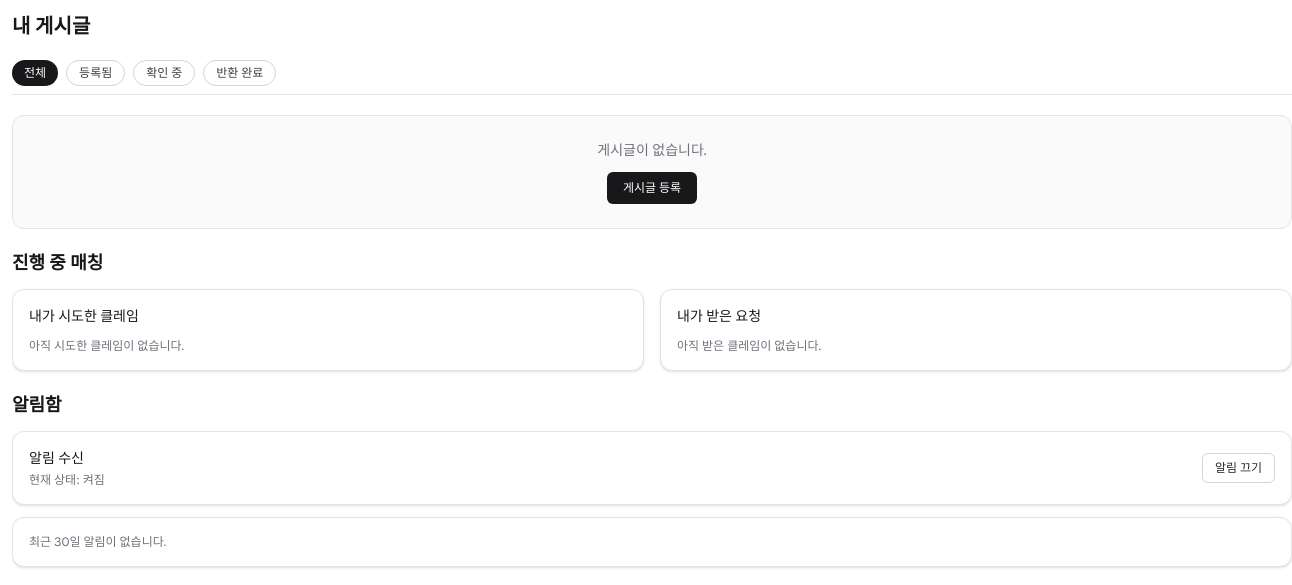
it: MyPage › toggles notification settings
Expected: the text "현재 상태: 켜짐" is shown, left=29, top=472, right=105, bottom=488
Step 1. Click the button "알림 끄기" → (1238, 468), box left=1202, top=453, right=1275, bottom=483
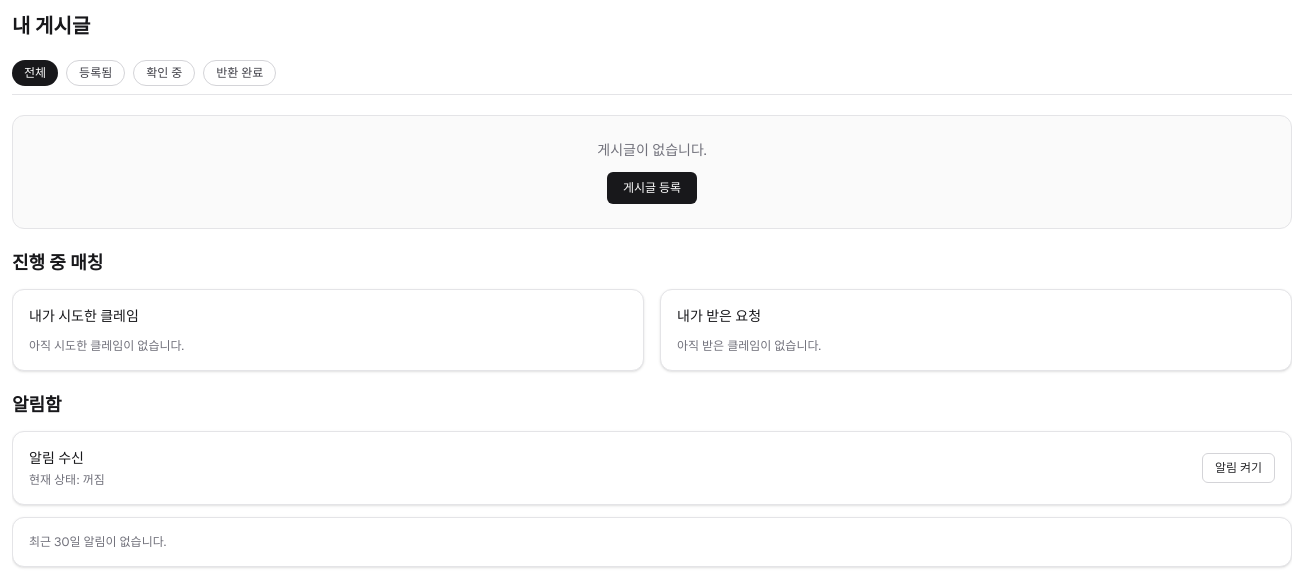
Result: the text "현재 상태: 꺼짐" is shown at left=29, top=472, right=105, bottom=488
